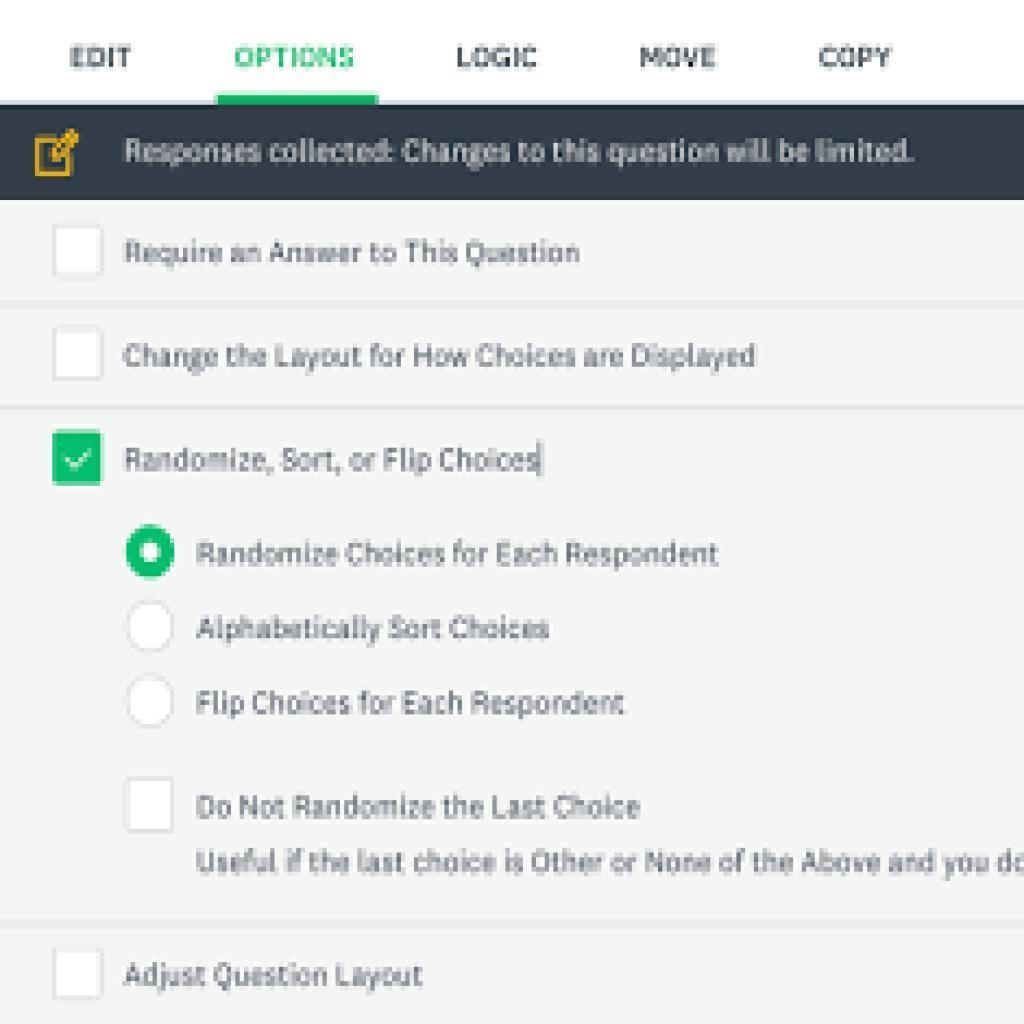checkbox: (52, 428, 105, 487), (52, 947, 106, 1003), (54, 327, 104, 382), (127, 780, 175, 834), (56, 227, 104, 280)
label: (117, 340, 764, 380), (122, 441, 547, 490), (190, 538, 724, 576), (194, 685, 639, 724), (195, 791, 650, 829), (111, 233, 581, 269), (195, 607, 564, 646), (120, 960, 427, 1001), (234, 41, 359, 73), (451, 38, 542, 76), (815, 41, 898, 79), (638, 41, 720, 76), (62, 45, 136, 76)
radio: (125, 522, 178, 582), (125, 675, 179, 730), (126, 601, 176, 654)
